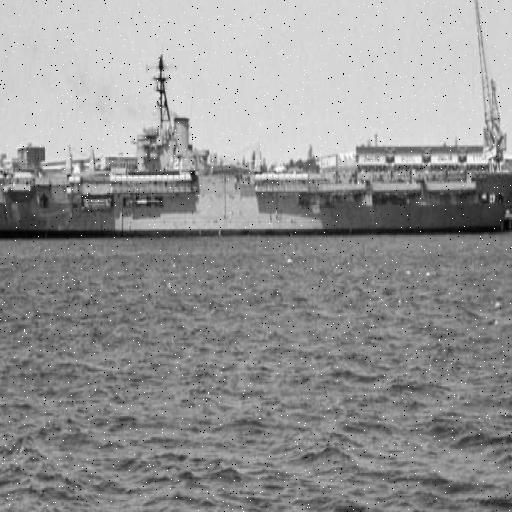Portanaves: (1, 42, 512, 247)
